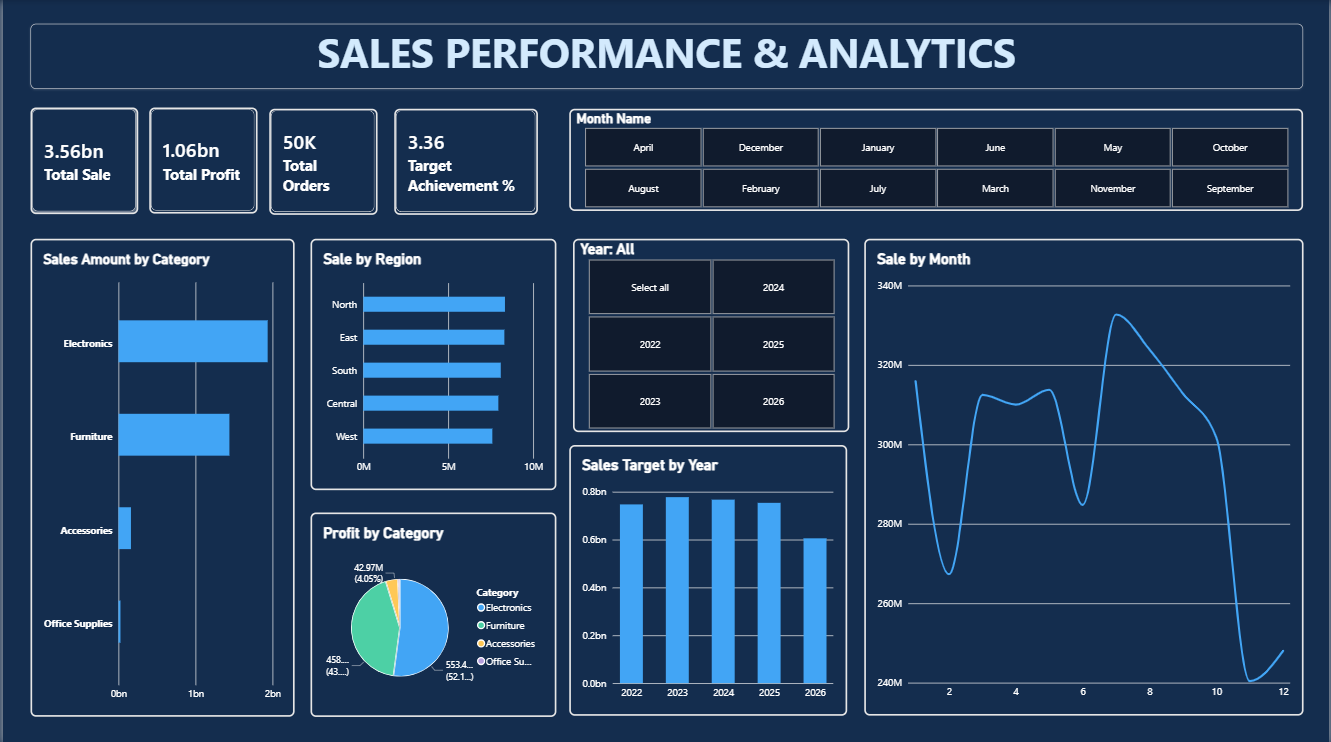

The page's visual inventory and layout, read from the dashboard file:
{"tool":"powerbi","page":{"name":"Sales Overview & Key Insights","canvas":[1920,1080],"ordinal":0},"visuals":[{"type":"cardVisual","fields":{"Data":["customers.Total Sale"]},"box":[40,156,156,154],"z":0},{"type":"barChart","title":"Sales Amount by Category","fields":{"Category":["products.Category"],"Y":["Sum(sales.SalesAmount)"]},"box":[40,346,382,692],"z":1000},{"type":"barChart","title":"Sale by Region","fields":{"Category":["sales.Region"],"Y":["customers.Total Sale"]},"box":[446,346,356,364],"z":2000},{"type":"columnChart","title":"Sales Target by Year","fields":{"Category":["targets.Year"],"Y":["Sum(targets.SalesTarget)"]},"box":[820,644,402,392],"z":3000},{"type":"pieChart","title":"Profit by Category","fields":{"Category":["targets.Category"],"Y":["Sum(sales.Profit)"]},"box":[446,742,356,296],"z":4000},{"type":"slicer","fields":{"Values":["targets.Year"]},"box":[826,346,400,280],"z":5000},{"type":"lineChart","title":"Sale by Month","fields":{"Category":["targets.Month"],"Y":["customers.Total Sale"]},"box":[1246,346,636,690],"z":6000},{"type":"slicer","fields":{"Values":["targets.Month Name"]},"box":[820,158,1062,148],"z":7000},{"type":"cardVisual","fields":{"Data":["customers.Total Profit"]},"box":[212,156,156.7,153.3],"z":8000},{"type":"cardVisual","fields":{"Data":["customers.Total Orders"]},"box":[386,158,156.7,153.3],"z":9000},{"type":"cardVisual","fields":{"Data":["customers.Target Achievement %"]},"box":[566,158,208.3,153.3],"z":10000},{"type":"textbox","box":[40,34,1842,94],"z":11000}]}

Visuals, with their boxes in screenshot pixels (x1, y1, x2, y2), scaled from the page's 1920x1080 canvas onto the 1331x742 screenshot:
cardVisual - customers.Total Sale: <box>28,107,136,213</box>
"Sales Amount by Category" barChart: <box>28,238,293,713</box>
"Sale by Region" barChart: <box>309,238,556,488</box>
"Sales Target by Year" columnChart: <box>568,442,847,712</box>
"Profit by Category" pieChart: <box>309,510,556,713</box>
slicer - targets.Year: <box>573,238,850,430</box>
"Sale by Month" lineChart: <box>864,238,1305,712</box>
slicer - targets.Month Name: <box>568,109,1305,210</box>
cardVisual - customers.Total Profit: <box>147,107,256,213</box>
cardVisual - customers.Total Orders: <box>268,109,376,214</box>
cardVisual - customers.Target Achievement %: <box>392,109,537,214</box>
textbox: <box>28,23,1305,88</box>
